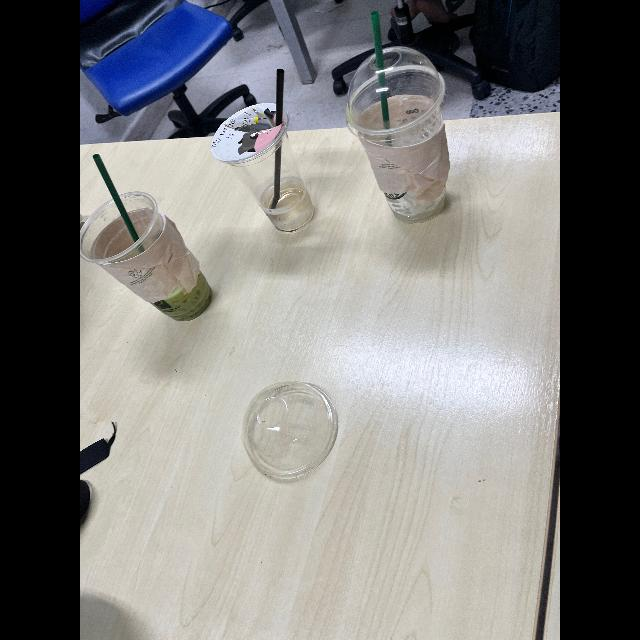plastic_cup: (340, 52, 456, 225), (80, 192, 216, 322), (211, 100, 321, 234)
plastic_cup_lid: (238, 380, 339, 484), (346, 45, 444, 137)
straw: (91, 153, 145, 255), (371, 11, 391, 153), (270, 69, 287, 212)
